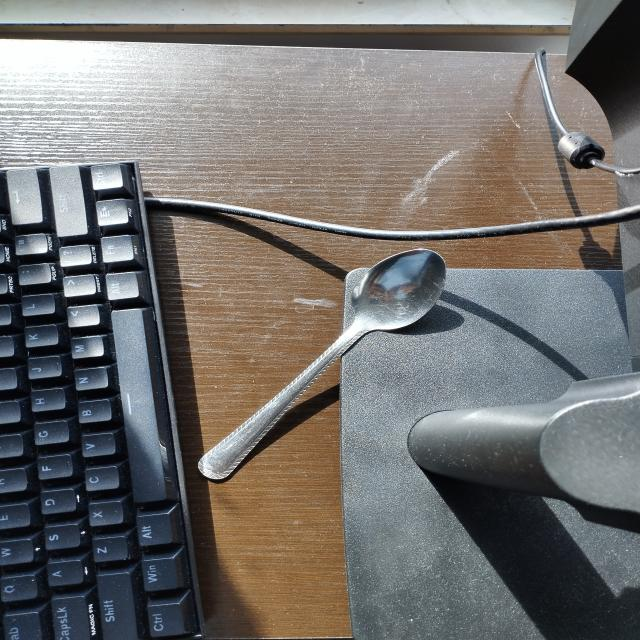Spoon: (174, 246, 492, 494)
